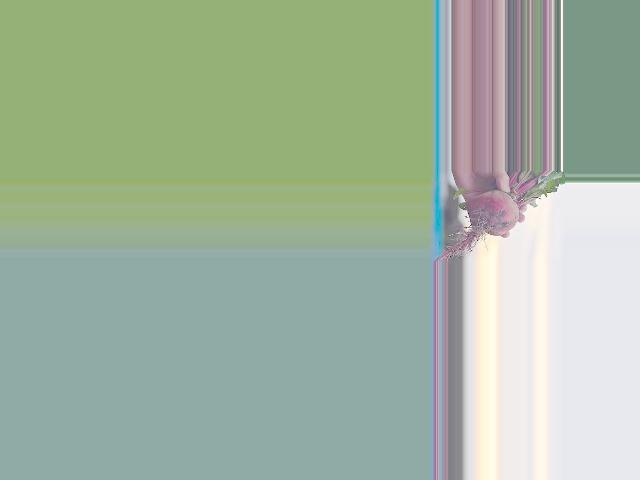beet: (435, 171, 565, 262)
